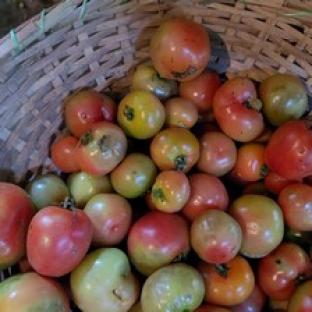Tomato: (27, 207, 93, 277), (70, 247, 139, 311), (127, 211, 190, 275), (150, 17, 210, 82), (228, 194, 284, 257), (214, 77, 264, 142), (257, 243, 311, 300), (141, 264, 204, 311), (0, 183, 34, 270), (198, 255, 254, 306), (191, 209, 242, 264), (0, 272, 71, 311), (265, 119, 311, 179), (77, 122, 128, 176), (84, 194, 132, 246), (260, 73, 307, 126), (117, 90, 165, 139), (182, 172, 229, 221), (150, 127, 199, 172), (111, 152, 157, 199), (179, 70, 221, 114), (65, 90, 104, 137), (197, 131, 236, 176), (66, 172, 114, 207), (151, 170, 190, 213), (131, 65, 178, 100), (26, 173, 69, 210), (278, 183, 311, 231), (230, 143, 267, 183), (230, 280, 267, 311), (51, 136, 79, 172), (165, 97, 197, 128), (264, 170, 302, 194), (287, 280, 311, 311), (195, 303, 231, 311)
